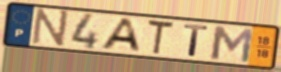4: (69, 12, 102, 52)
A: (98, 17, 143, 54)
M: (210, 24, 255, 64)
N: (29, 7, 71, 49)
T: (145, 18, 176, 57), (182, 23, 211, 59)
